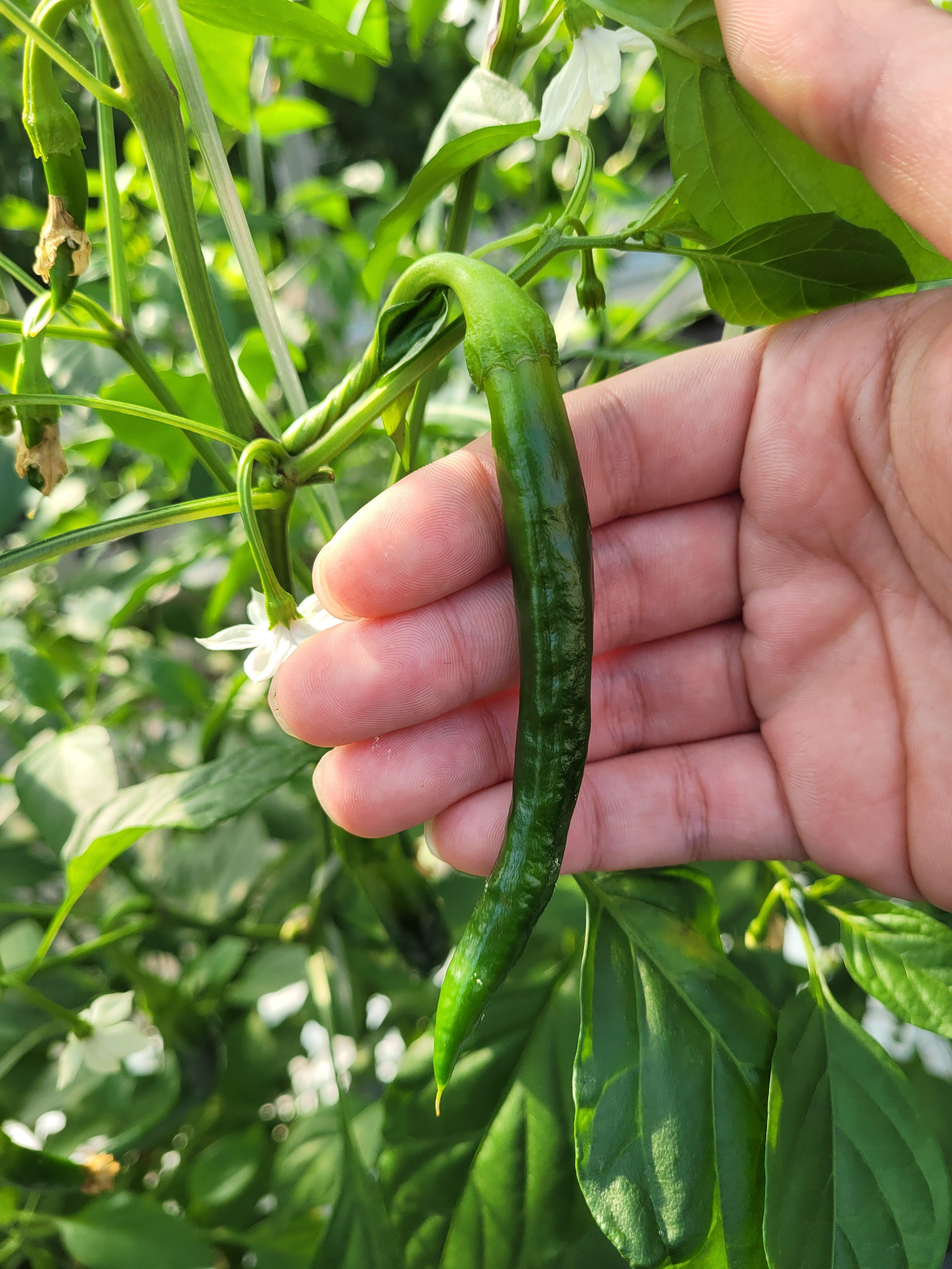Buah Cabai Sehat: (432, 300, 597, 1116)
